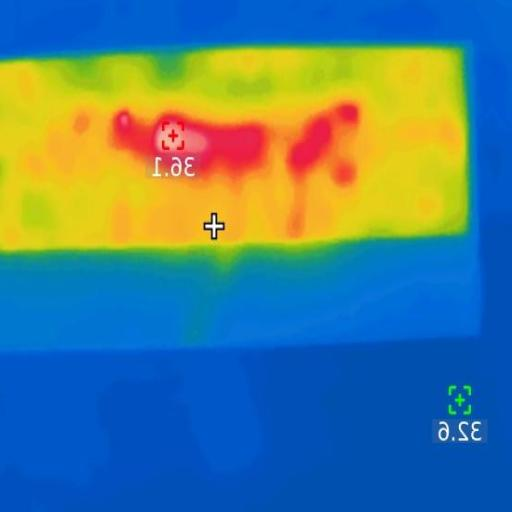hotspot: (151, 123, 260, 162), (292, 120, 330, 177), (114, 115, 130, 151), (335, 106, 358, 124)
